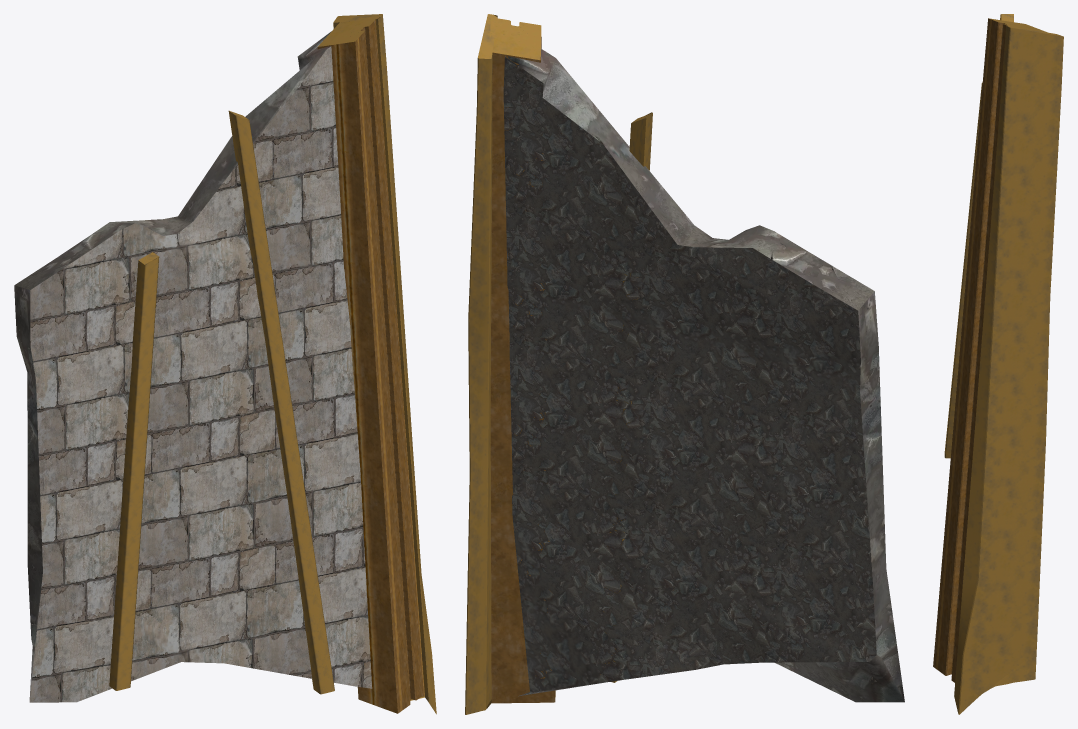
The picture shows the model from 3 angles, left to right: view 1: azimuth 30°, elevation 25°; view 2: azimuth 150°, elevation 25°; view 3: azimuth 270°, elevation 25°; orthographic projection. The views are drawn at different scales.
Visible parts, largest first — view 1: SM_KuldrasTower_DMG_01_LOD0; view 2: SM_KuldrasTower_DMG_01_LOD0; view 3: SM_KuldrasTower_DMG_01_LOD0.
Part boxes in pixels (box(x1,y1,x2,y2)): SM_KuldrasTower_DMG_01_LOD0: box(14, 14, 436, 714); SM_KuldrasTower_DMG_01_LOD0: box(465, 14, 904, 714); SM_KuldrasTower_DMG_01_LOD0: box(933, 14, 1063, 714).
Bounding box in the file's own units: 36.92 × 60.24 × 10.6.
Materials: 5 (5 with a texture image).
